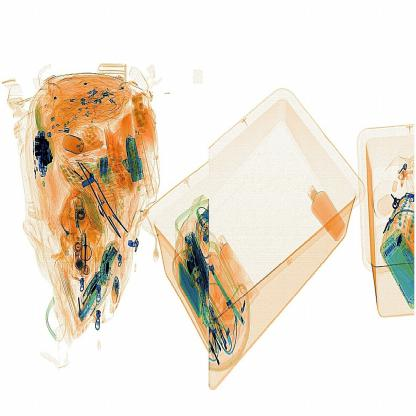scissors: (33, 116, 55, 182)
